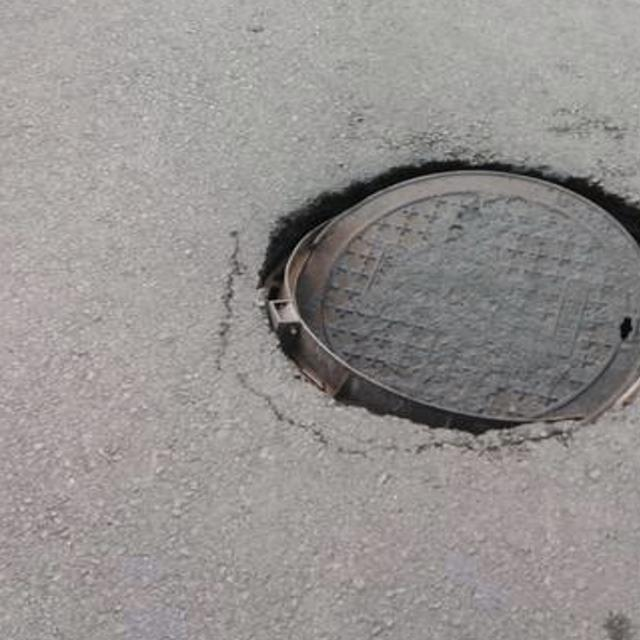circle: (186, 135, 640, 460)
